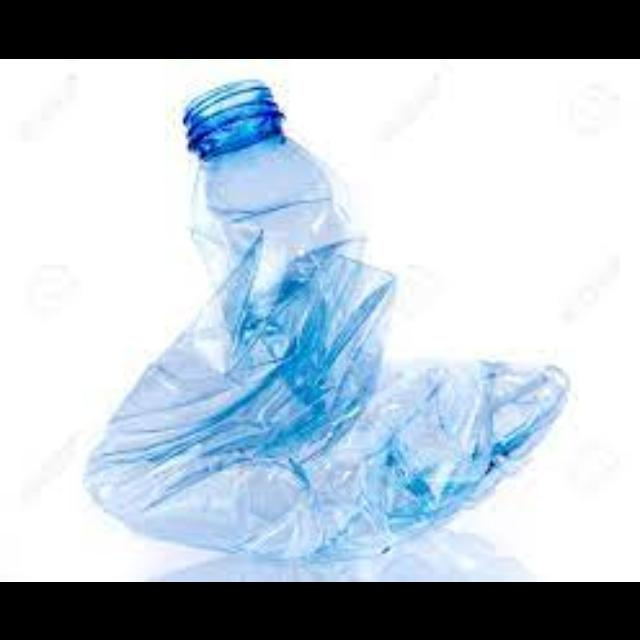trash: (73, 78, 581, 552)
